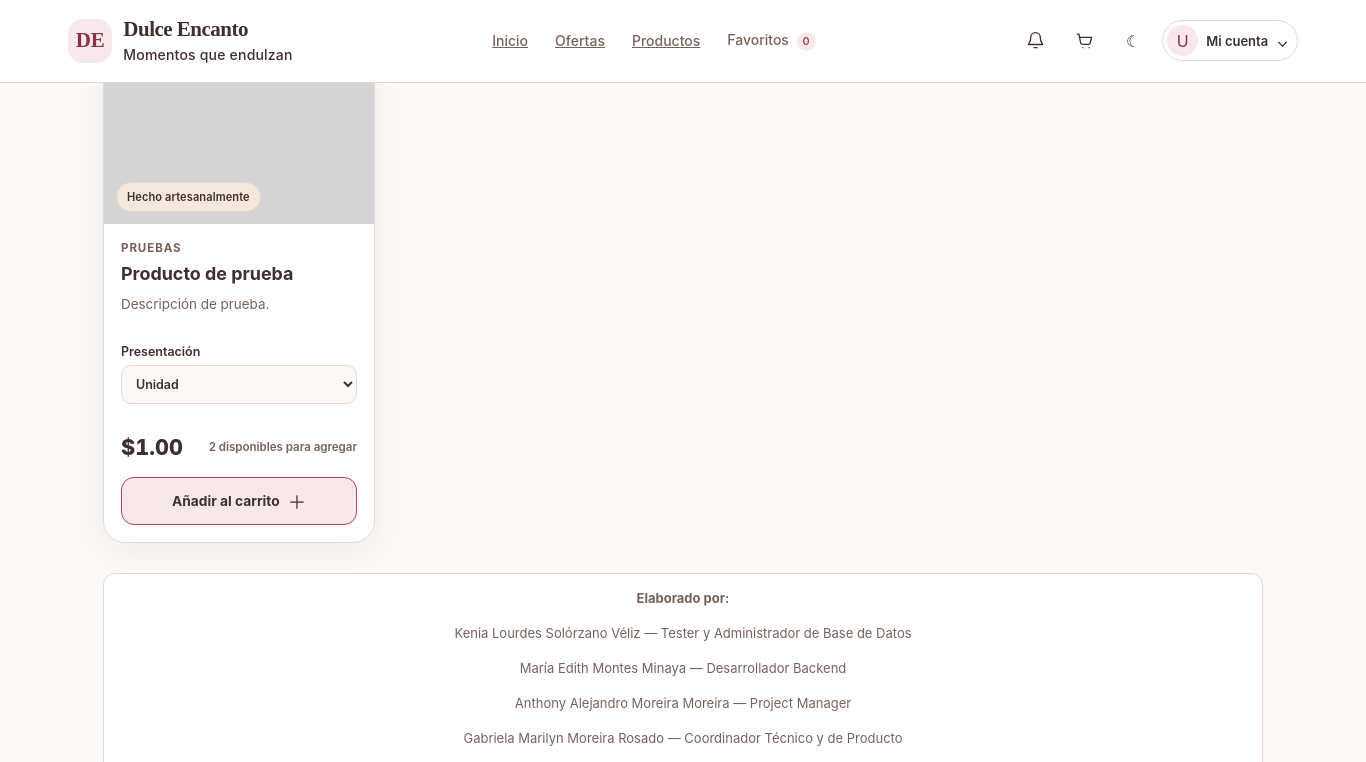
Test: Casos límite del catálogo › impide añadir más unidades que el stock de la variante seleccionada
This screenshot has width=1366, height=762.
(page scrolled)
Expected: the element "Producto de prueba" is shown, left=103, top=6, right=375, bottom=543
Select "Unidad" in the dropdown named "Presentación de Producto de prueba" at (239, 384), box left=121, top=365, right=357, bottom=404
Click the button with aria-label "Agregar Producto de prueba al carrito" at (239, 501), box left=121, top=477, right=357, bottom=525
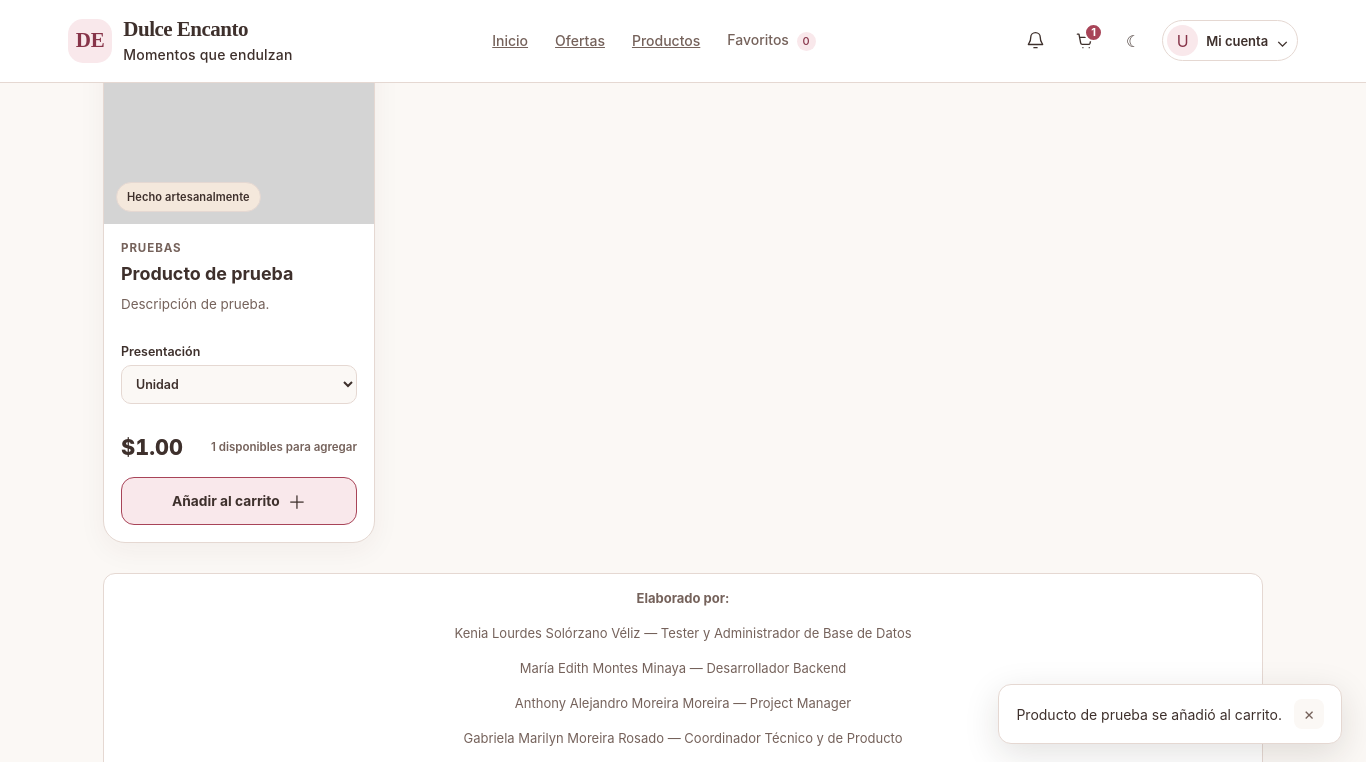
Click the button with aria-label "Agregar Producto de prueba al carrito" at (239, 501), box left=121, top=477, right=357, bottom=525
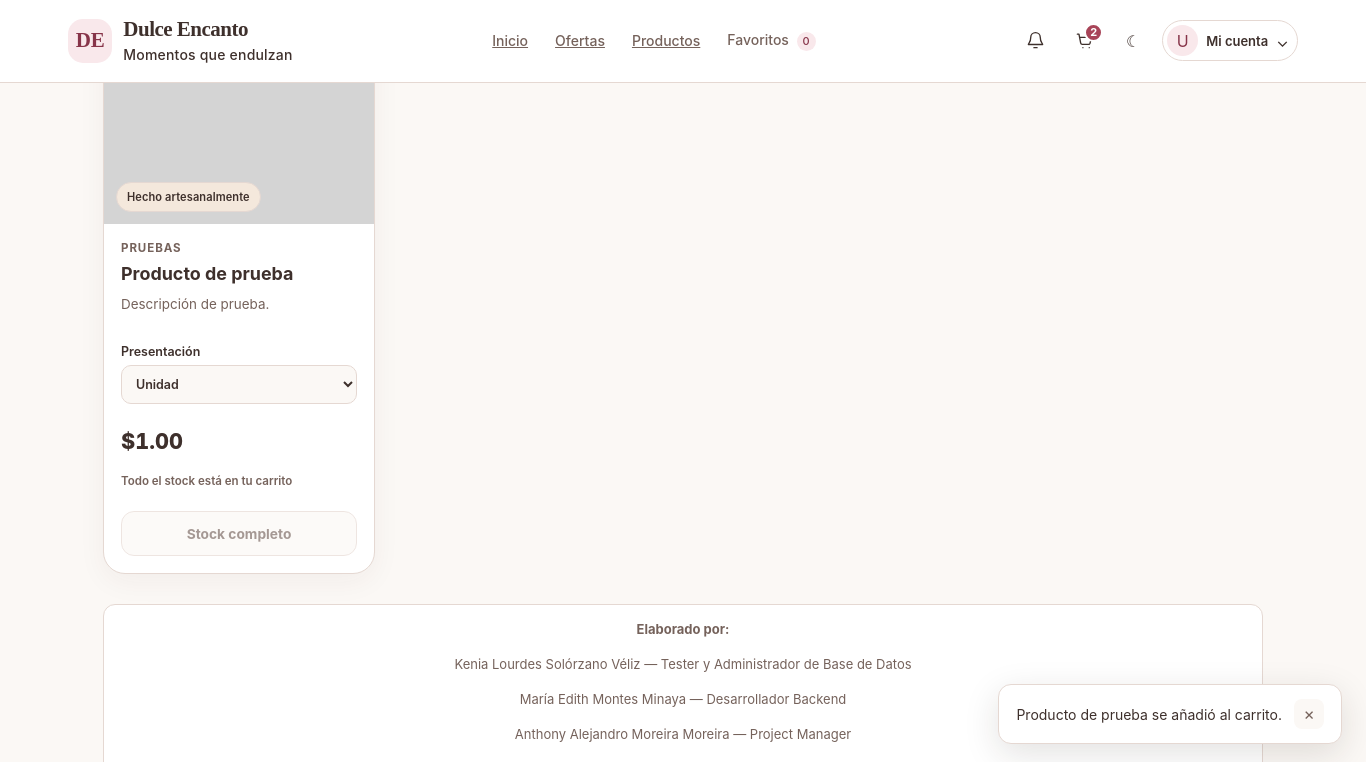
Expected: the button named "Carrito, 2 productos" is shown, left=1064, top=21, right=1104, bottom=61
Expected: the button with aria-label "Agregar Producto de prueba al carrito" is disabled, left=121, top=511, right=357, bottom=556
Expected: the button with aria-label "Agregar Producto de prueba al carrito" reads "Stock completo", left=121, top=511, right=357, bottom=556
